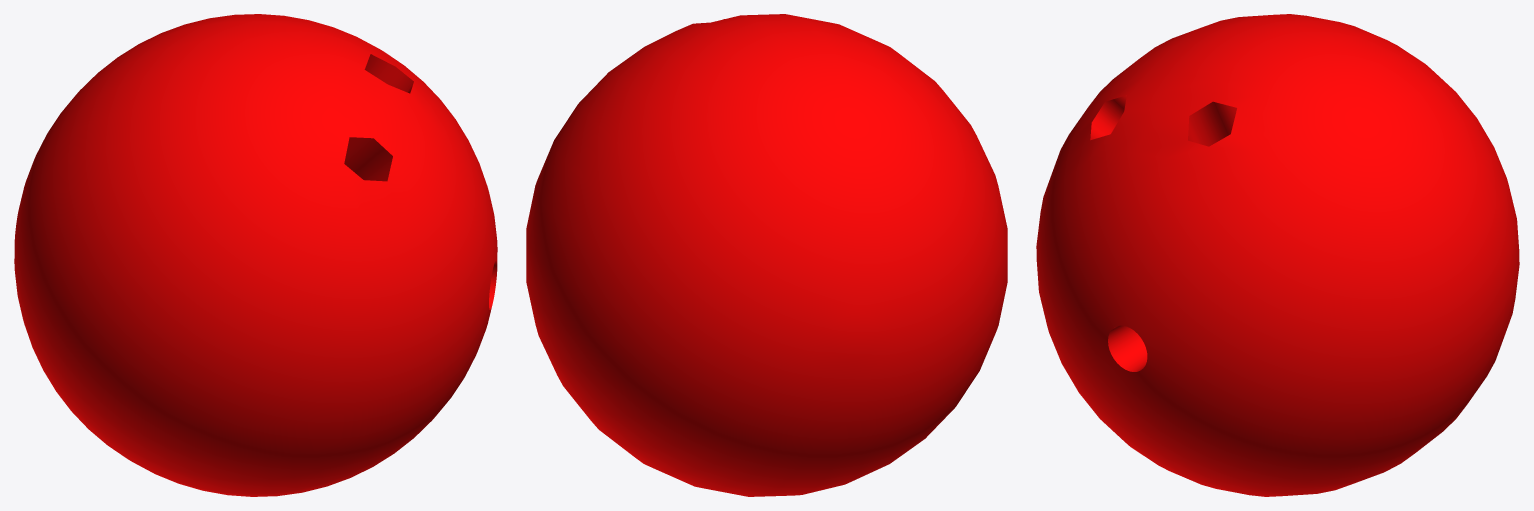
File: bowlingBallColor.fbx
3 views of the same model, side by side, from view 1: azimuth 30°, elevation 25°; view 2: azimuth 150°, elevation 25°; view 3: azimuth 270°, elevation 25° (orthographic).
Visible parts, largest first — view 1: ball; view 2: ball; view 3: ball.
Boxes of the visible parts, x1,y1,x2,y2 form: ball: (14, 14, 497, 496); ball: (526, 14, 1007, 496); ball: (1036, 14, 1519, 496).
Size of the model in its own units: 9.01 by 9.01 by 9.01.
